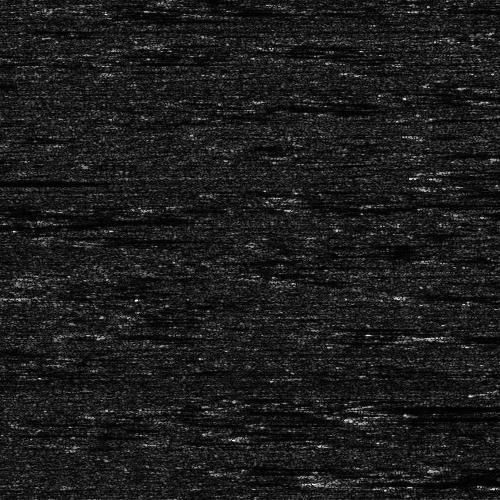object: (310, 413, 403, 422), (402, 333, 495, 342), (341, 405, 372, 408)
shadow: (357, 413, 476, 422), (0, 175, 86, 184), (448, 333, 500, 342), (357, 405, 500, 408)
